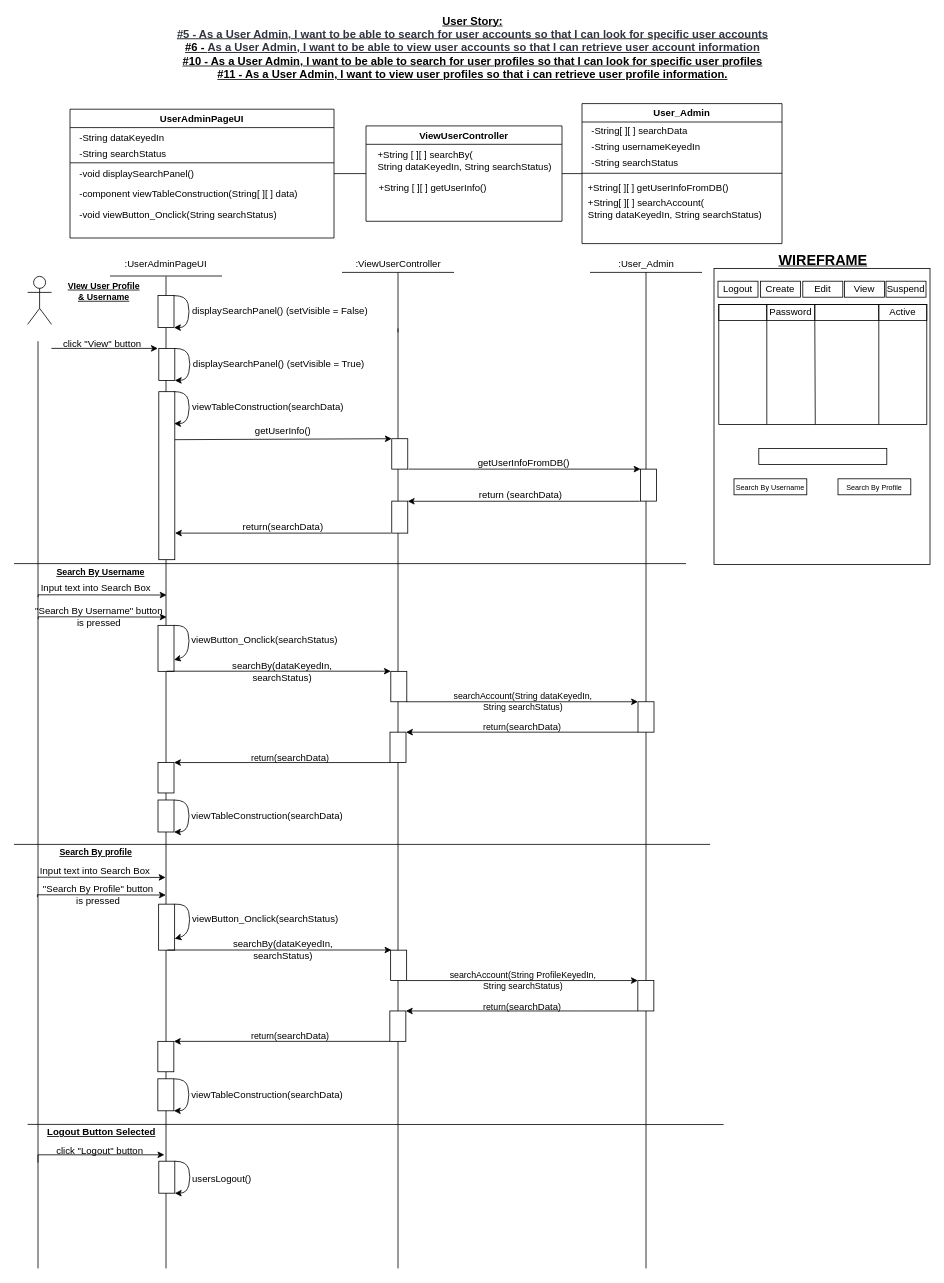
The diagram is 944 pixels wide and 1283 high, and some of its shapes have lost their labels. Each missing label, with the centre of its shape:
User Admin: pixel 39 300
User Profile: pixel 846 312
Username: pixel 742 312
